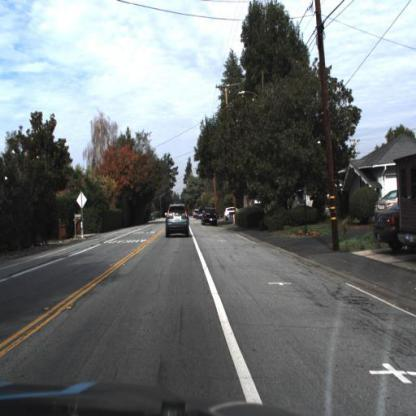car: (163, 199, 192, 244), (201, 202, 221, 228), (222, 205, 242, 220)
